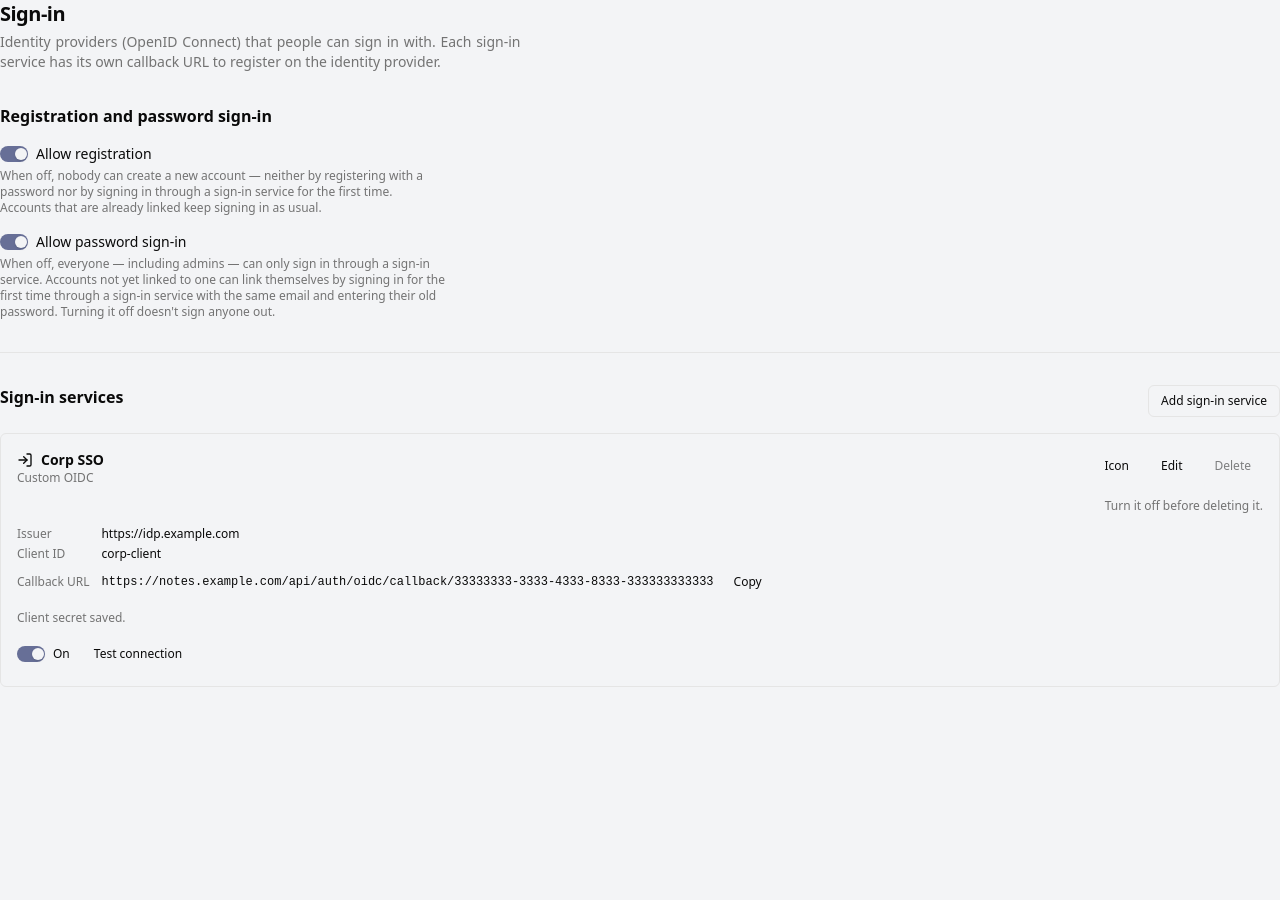
Scenario: 編輯登入服務 dialog（#187 §9.4、§5.2） › 編輯時把 issuer 改成帶帳密 → 欄位錯誤、不發 PATCH
Click the button "Edit" at {"x": 1172, "y": 466}, box [1149,450,1194,482]
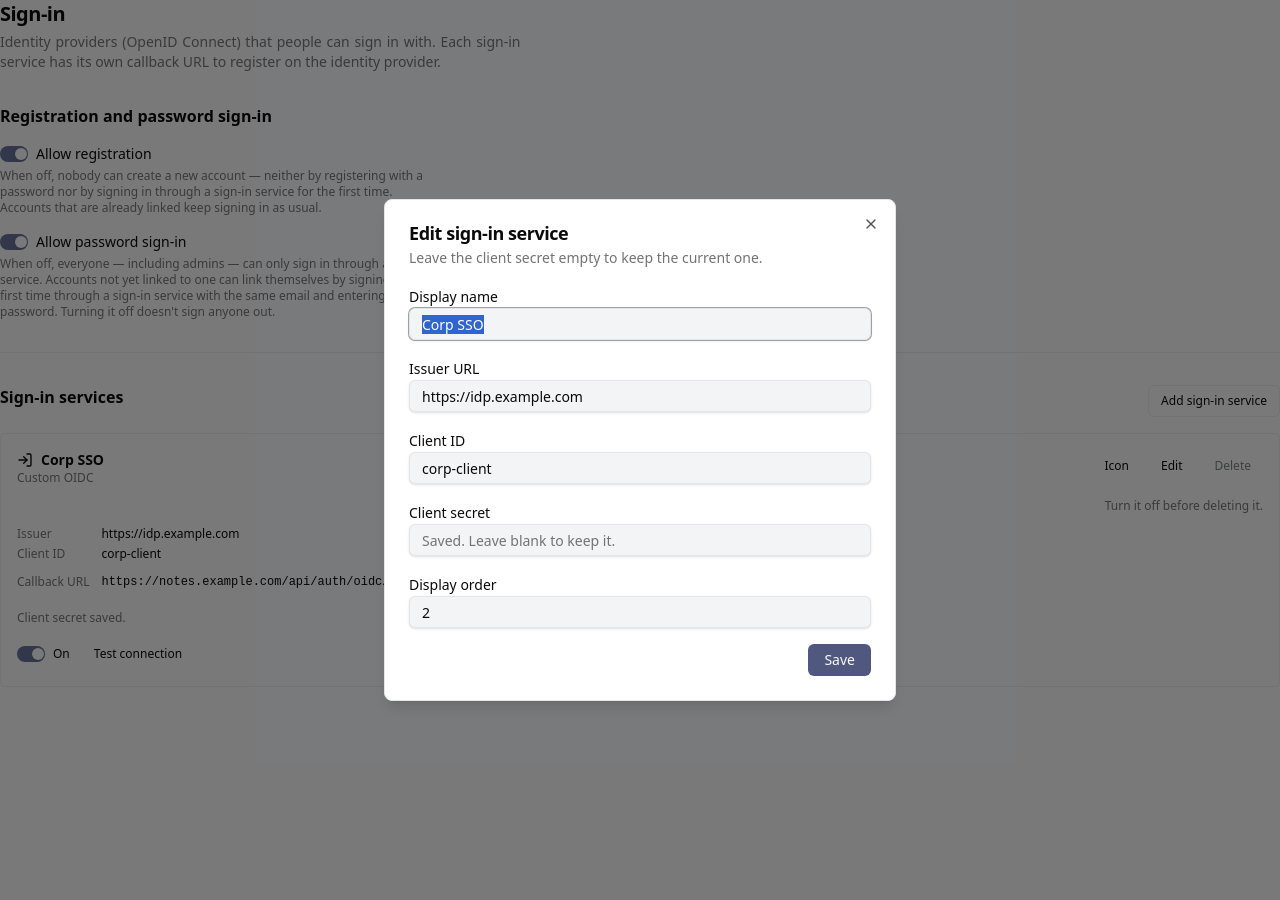
Replace the text in the field labelled "Issuer URL" with "https://user:pass@idp.example.com" at {"x": 640, "y": 396}, box [409,380,871,412]
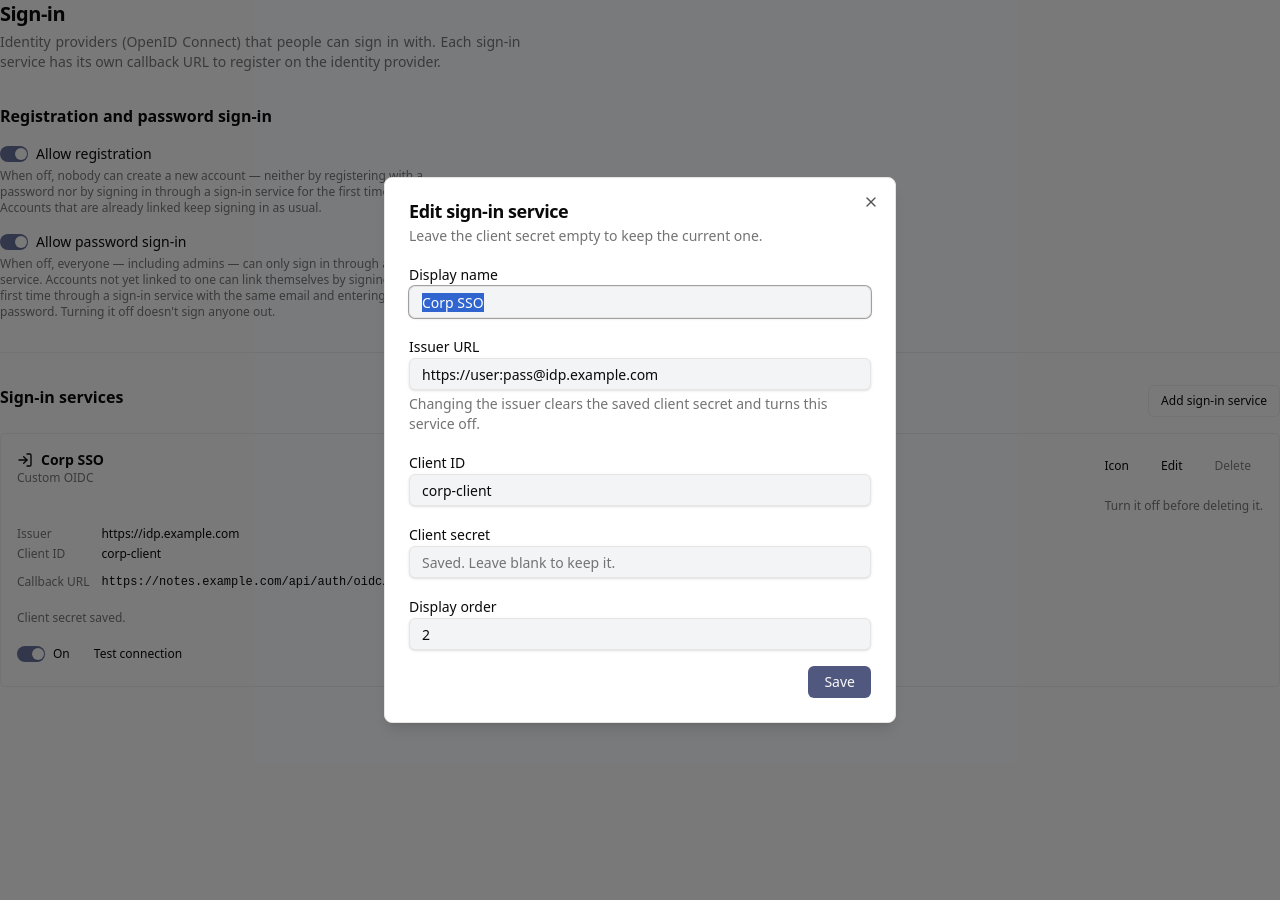
Click the button "Save" at {"x": 840, "y": 682}, box [808,666,871,698]
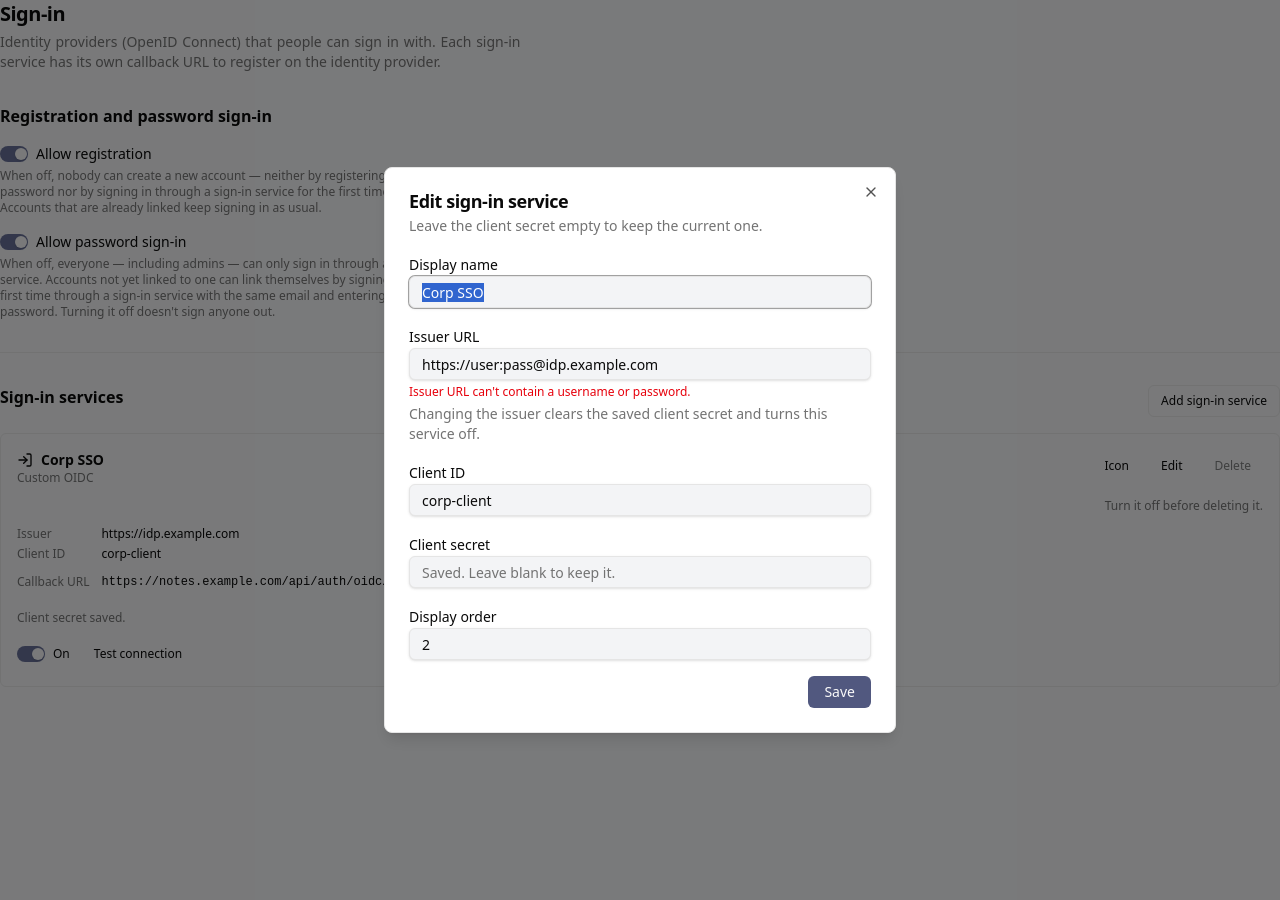
Check: the text "Issuer URL can't contain a username or password." is shown, box [409,383,690,400]
